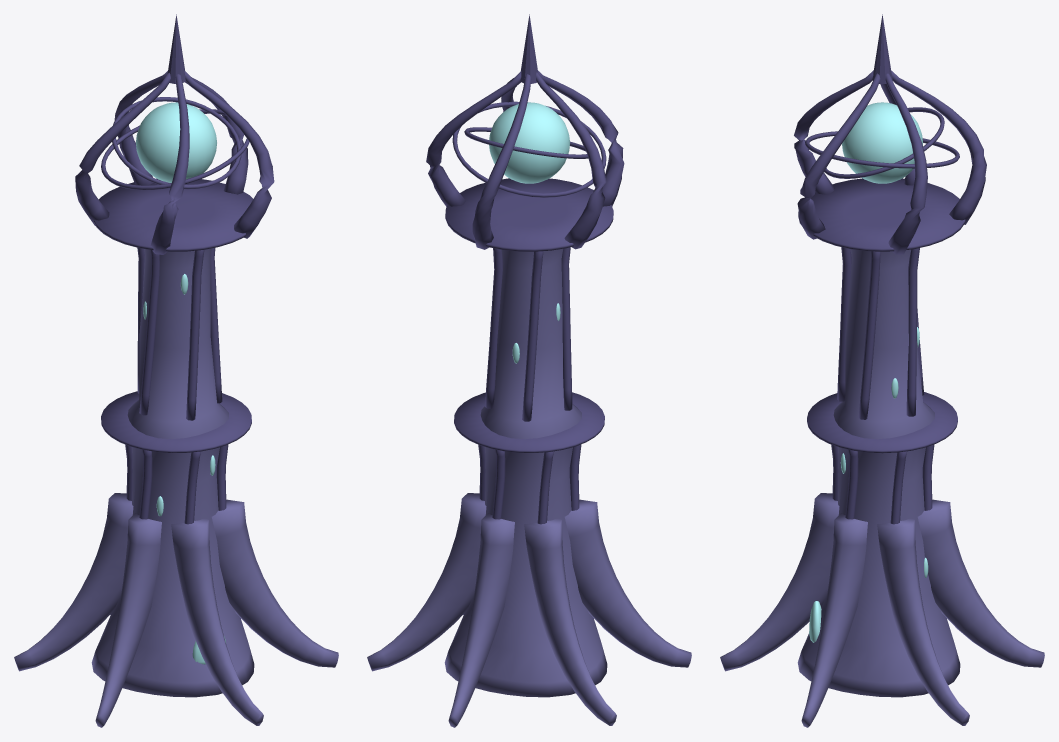
Rendered from env_lighthouse_bg.fbx.
The picture shows the model from 3 angles, left to right: view 1: azimuth 30°, elevation 25°; view 2: azimuth 150°, elevation 25°; view 3: azimuth 270°, elevation 25°; orthographic projection.
Visible parts, largest first — view 1: LH_Shaft, LH_Roots, LH_Galleries, LH_Claws, LH_Ribs, LH_Orb, LH_Halo, LH_Spire, LH_Windows; view 2: LH_Shaft, LH_Roots, LH_Galleries, LH_Claws, LH_Ribs, LH_Orb, LH_Halo, LH_Spire; view 3: LH_Shaft, LH_Roots, LH_Galleries, LH_Claws, LH_Ribs, LH_Orb, LH_Halo, LH_Windows, LH_Spire.
Part boxes in pixels (left/top/right/bottom): LH_Shaft: left=91, top=248, right=254, bottom=697; LH_Roots: left=14, top=493, right=338, bottom=727; LH_Galleries: left=94, top=178, right=253, bottom=452; LH_Claws: left=75, top=71, right=274, bottom=254; LH_Ribs: left=125, top=247, right=228, bottom=524; LH_Orb: left=136, top=102, right=216, bottom=182; LH_Halo: left=101, top=97, right=249, bottom=190; LH_Spire: left=167, top=14, right=185, bottom=83; LH_Windows: left=143, top=274, right=226, bottom=664; LH_Shaft: left=444, top=248, right=607, bottom=697; LH_Roots: left=367, top=493, right=691, bottom=727; LH_Galleries: left=445, top=178, right=613, bottom=452; LH_Claws: left=426, top=70, right=624, bottom=249; LH_Ribs: left=478, top=247, right=581, bottom=524; LH_Orb: left=489, top=102, right=569, bottom=183; LH_Halo: left=452, top=101, right=606, bottom=197; LH_Spire: left=520, top=14, right=538, bottom=83; LH_Shaft: left=797, top=249, right=960, bottom=697; LH_Roots: left=720, top=493, right=1044, bottom=727; LH_Galleries: left=798, top=178, right=965, bottom=453; LH_Claws: left=794, top=70, right=986, bottom=254; LH_Ribs: left=831, top=247, right=934, bottom=524; LH_Orb: left=842, top=102, right=922, bottom=183; LH_Halo: left=805, top=107, right=959, bottom=178; LH_Windows: left=809, top=327, right=928, bottom=642; LH_Spire: left=872, top=14, right=892, bottom=83.
Size of the model in its own units: 19.69 by 49.75 by 22.34.
